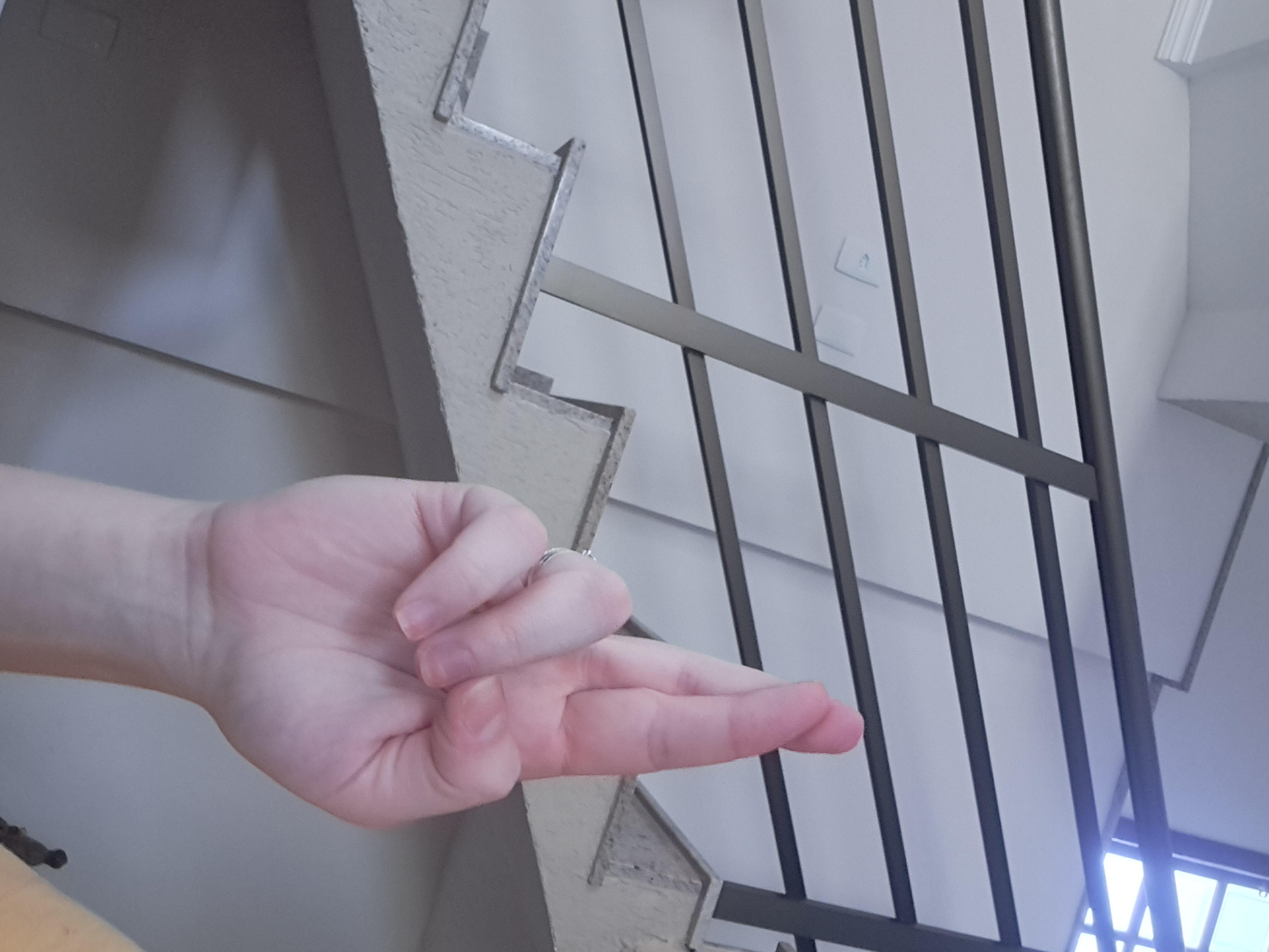R: (622, 286, 1135, 840)
